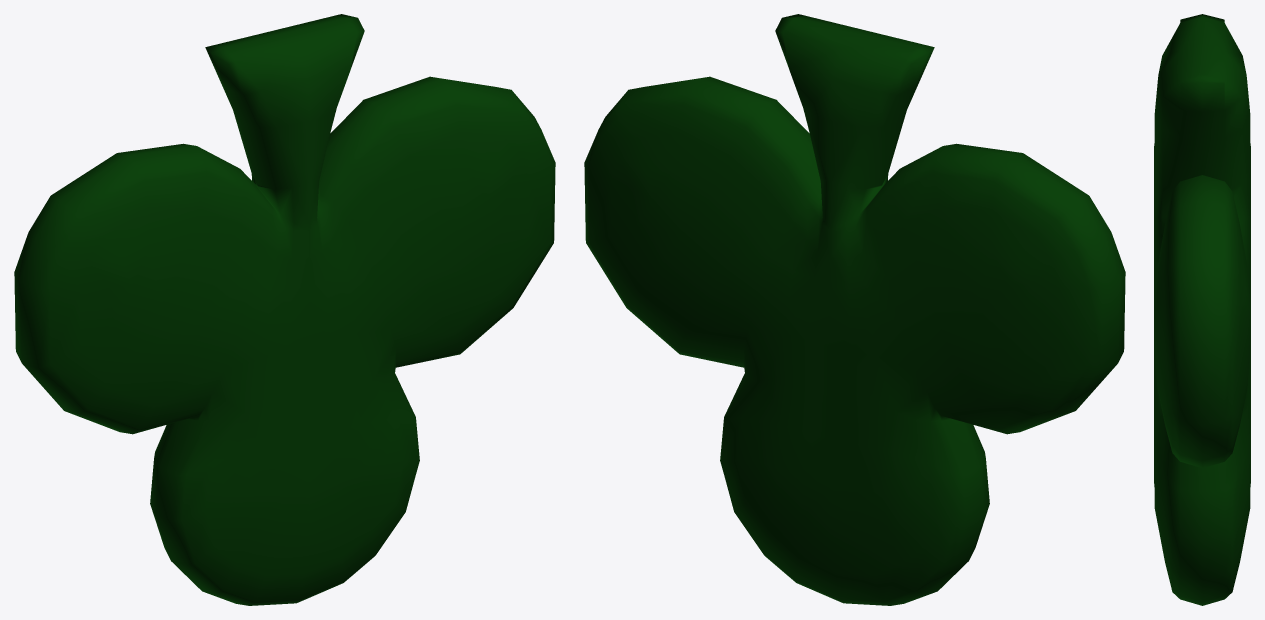
Rendered from clover.fbx.
3 views of the same model, side by side, from view 1: azimuth 30°, elevation 25°; view 2: azimuth 150°, elevation 25°; view 3: azimuth 270°, elevation 25° (orthographic). The views are drawn at different scales.
Visible parts, largest first — view 1: cardSuit:club001; view 2: cardSuit:club001; view 3: cardSuit:club001.
Part boxes in pixels (x1=…): cardSuit:club001: x1=14, y1=14, x2=555, y2=605; cardSuit:club001: x1=584, y1=14, x2=1125, y2=605; cardSuit:club001: x1=1154, y1=14, x2=1250, y2=605.
Bounding box in the file's own units: 0.6997 × 0.7175 × 0.1154.
